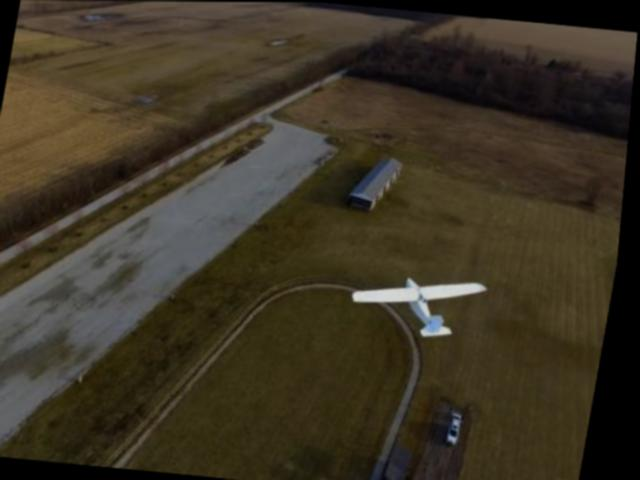uav: (341, 251, 499, 352)
